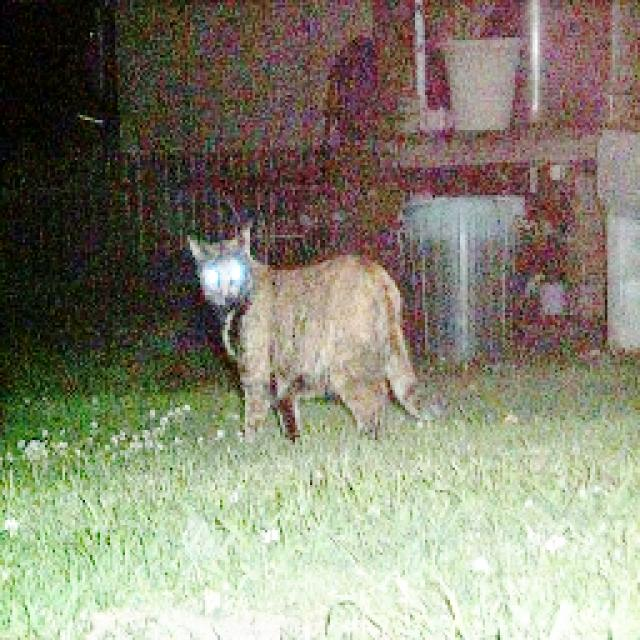cat: (176, 198, 459, 476)
